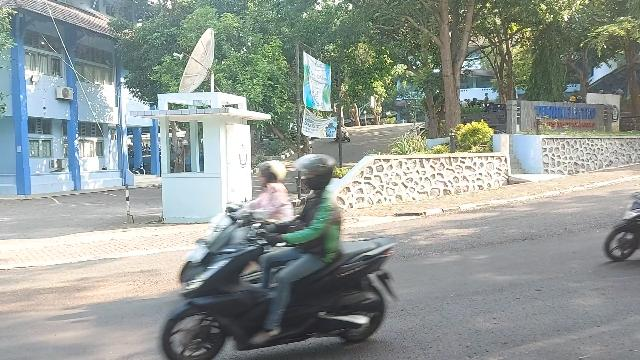helm: (293, 155, 337, 191), (259, 162, 287, 185)
motor: (162, 220, 400, 360)
